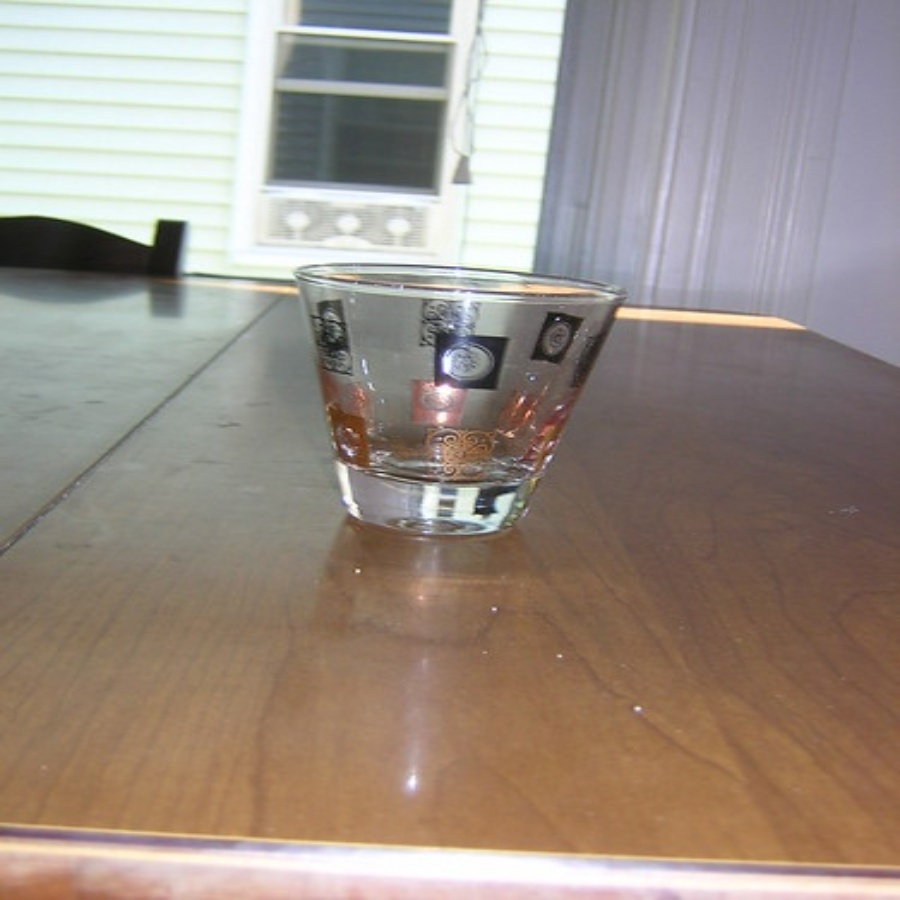whiskey: (302, 288, 609, 544)
